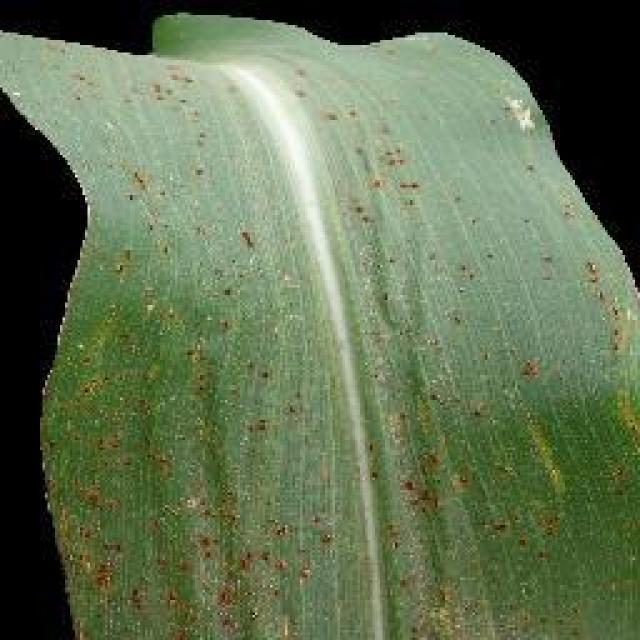Corn Common Rust: (170, 80, 607, 637)
